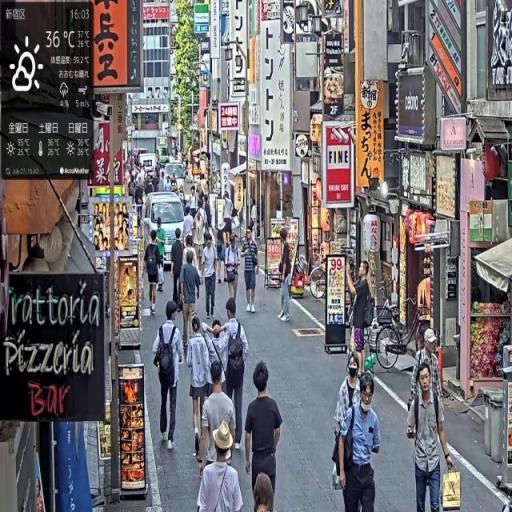person: (408, 362, 453, 512), (208, 299, 250, 451), (338, 374, 383, 512), (244, 361, 285, 508), (154, 302, 185, 452), (199, 364, 237, 476), (198, 422, 245, 512), (187, 316, 214, 459), (180, 246, 202, 361), (144, 232, 163, 321), (243, 228, 261, 316), (279, 231, 296, 324), (202, 233, 219, 322), (171, 229, 187, 311), (225, 234, 242, 311), (253, 474, 277, 512)
